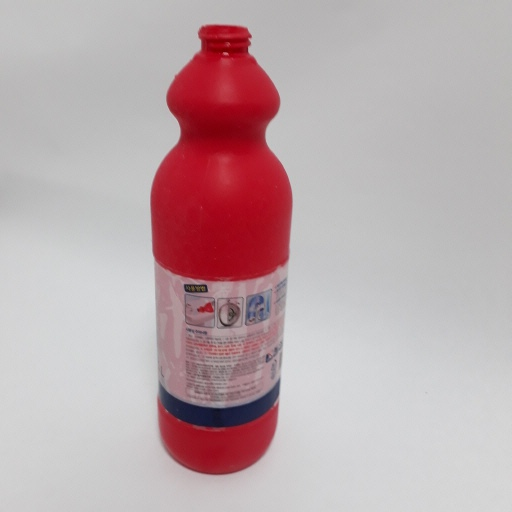Plastic_0: (146, 23, 295, 480)
